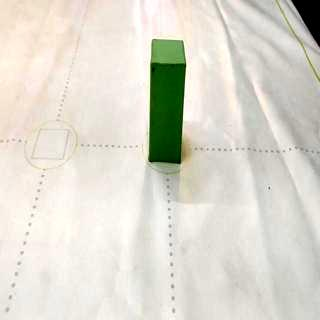greenbox: (146, 38, 188, 164)
